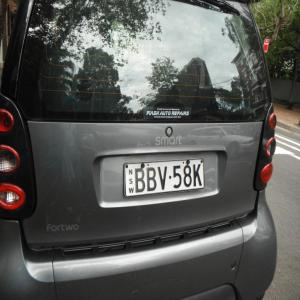Vehicle-registration-plate: (116, 157, 209, 206)
